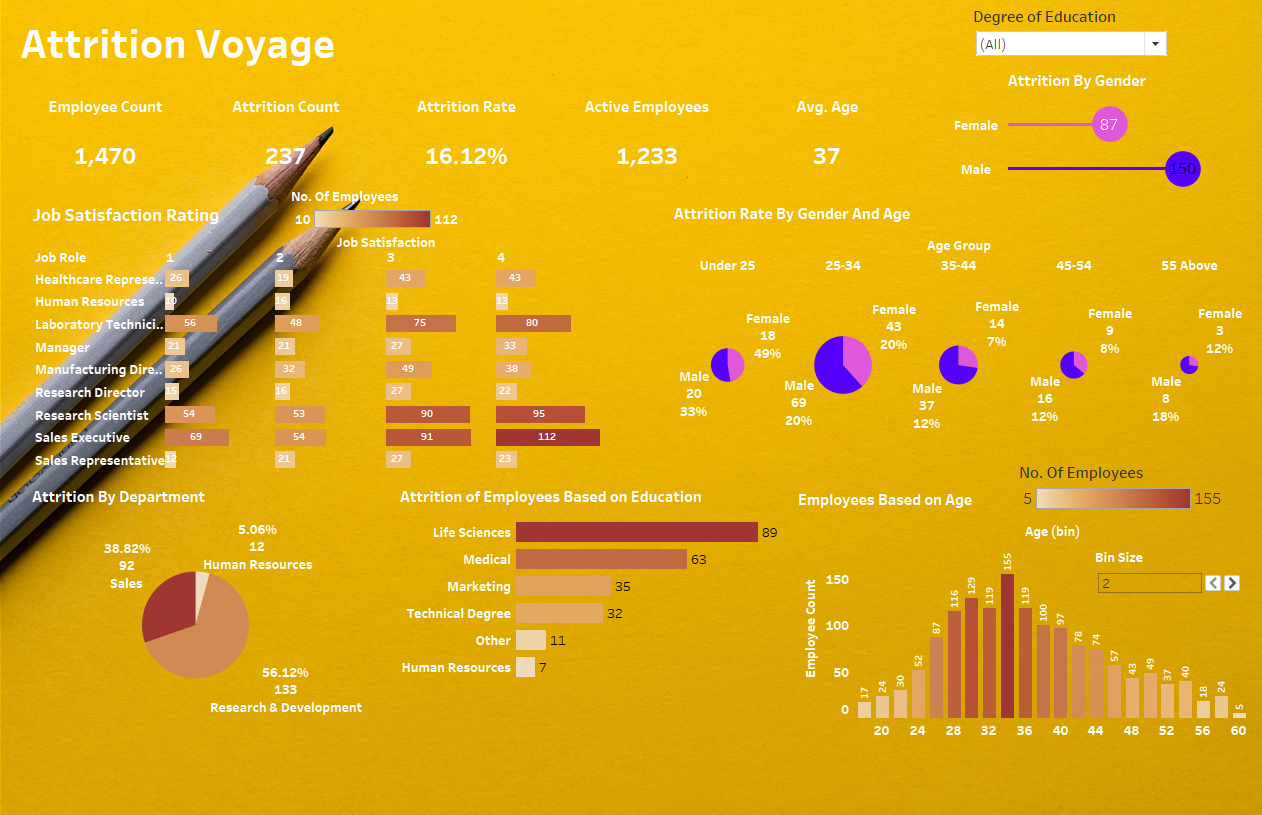

The dashboard page shown, as its layout file describes it:
{"tool":"tableau","page":{"name":"HR Analytics","canvas":[1260,768],"ordinal":0},"visuals":[{"type":"filter","title":"KPI","param":"[federated.0zatbrx19jltdn1bdo0r012xlpi4].[none:Calculation_137078353015115779:nk","box":[967,7,197,68]},{"type":"text","box":[11.1,15.5,796.1,76.3]},{"type":"worksheet","title":"Attrition By Gender","mark":"Automatic","rows":["Gender"],"cols":["Calculation_137078353007509504","Calculation_137078353007509504"],"box":[938,67,266,125]},{"type":"worksheet","title":"KPI","mark":"Automatic","box":[9,78,903,117]},{"type":"legend","title":"Job Satisfaction Rating","param":"[federated.0zatbrx19jltdn1bdo0r012xlpi4].[cnt:JobSatisfaction:qk]","box":[285,188,172,93]},{"type":"worksheet","title":"Job Satisfaction Rating","mark":"Automatic","rows":["JobRole"],"cols":["JobSatisfaction","JobSatisfaction"],"box":[23,200,577,272]},{"type":"worksheet","title":"Attrition Rate By Gender And Age","mark":"Pie","cols":["Calculation_1662391251912433669"],"box":[664,200,577,256]},{"type":"legend","title":"Employees Based on Age","param":"[federated.0zatbrx19jltdn1bdo0r012xlpi4].[sum:EmployeeCount:qk]","box":[1013,463,207,68]},{"type":"worksheet","title":"Attrition By Department","mark":"Pie","box":[22,483,335,250]},{"type":"worksheet","title":"Attrition of Employees Based on Education","mark":"Automatic","rows":["EducationField"],"cols":["Calculation_137078353007509504"],"box":[390,483,400,264]},{"type":"worksheet","title":"Employees Based on Age","mark":"Bar","rows":["EmployeeCount"],"cols":["Age (bin)"],"box":[788,486,454,255]},{"type":"parameter","param":"[Parameters].[Parameter 1]","box":[1089,549,148,58]}]}

Visuals, with their boxes on the page's 1260x768 design canvas (x1, y1, x2, y2). These are canvas units, not pixel positions in the 1262x815 screenshot, which may show the page scaled, cropped or inside an application window:
"KPI" filter: crop(967, 7, 1164, 75)
text: crop(11, 16, 807, 92)
"Attrition By Gender" worksheet: crop(938, 67, 1204, 192)
"KPI" worksheet: crop(9, 78, 912, 195)
"Job Satisfaction Rating" legend: crop(285, 188, 457, 281)
"Job Satisfaction Rating" worksheet: crop(23, 200, 600, 472)
"Attrition Rate By Gender And Age" worksheet (Pie marks): crop(664, 200, 1241, 456)
"Employees Based on Age" legend: crop(1013, 463, 1220, 531)
"Attrition By Department" worksheet (Pie marks): crop(22, 483, 357, 733)
"Attrition of Employees Based on Education" worksheet: crop(390, 483, 790, 747)
"Employees Based on Age" worksheet (Bar marks): crop(788, 486, 1242, 741)
parameter: crop(1089, 549, 1237, 607)
